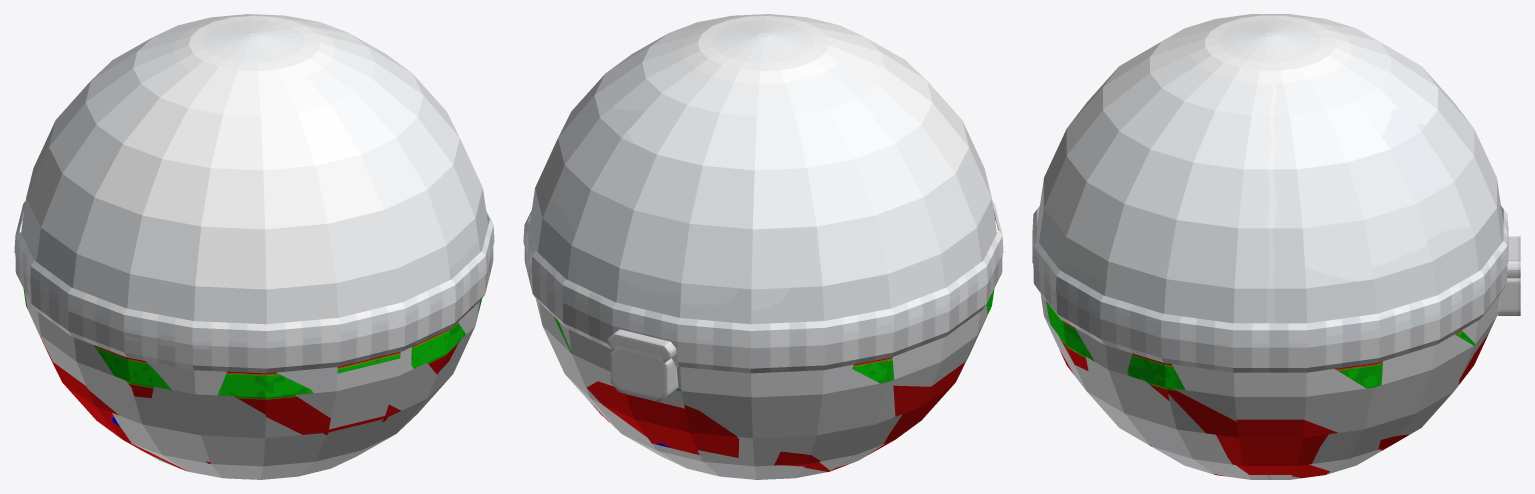
The picture shows the model from 3 angles, left to right: view 1: azimuth 30°, elevation 25°; view 2: azimuth 150°, elevation 25°; view 3: azimuth 270°, elevation 25°; orthographic projection.
Visible parts, largest first — view 1: top, bottom_tab, bottom, bottom_paper; view 2: top, bottom_tab, bottom_paper, bottom; view 3: top, bottom_tab, bottom_paper, bottom.
Boxes of the visible parts, x1,y1,x2,y2 form: top: [14, 14, 494, 348]; bottom_tab: [18, 261, 482, 479]; bottom: [15, 247, 493, 461]; bottom_paper: [23, 289, 481, 471]; top: [523, 14, 1003, 348]; bottom_tab: [530, 257, 1001, 479]; bottom_paper: [553, 289, 994, 479]; bottom: [524, 247, 1002, 464]; top: [1032, 14, 1508, 347]; bottom_tab: [1033, 236, 1520, 479]; bottom_paper: [1046, 301, 1488, 478]; bottom: [1033, 270, 1499, 479].
Bounding box in the file's own units: 0.066 × 0.065 × 0.0677.
5 materials, 5 textured.
